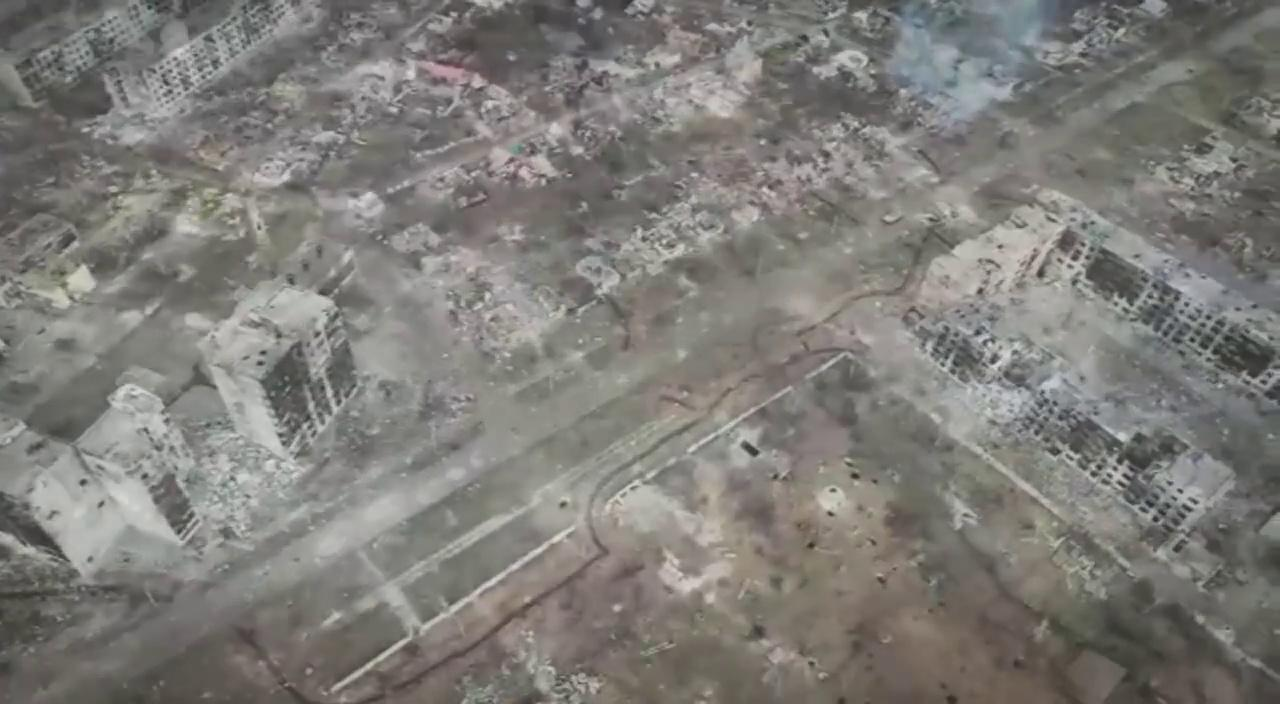vehicle: (881, 208, 903, 223)
